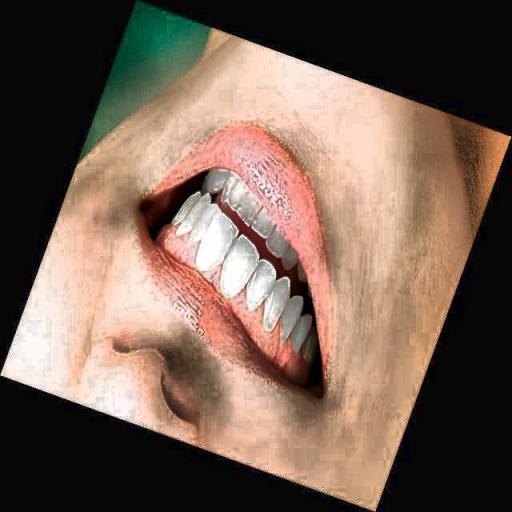Healthy: (112, 120, 358, 399)
